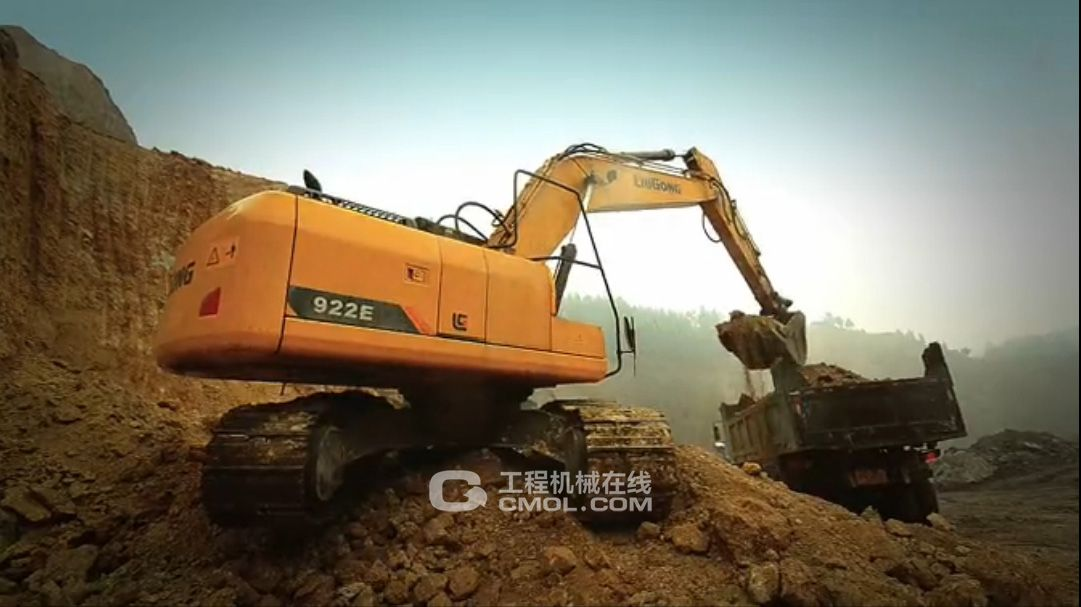excavator: (130, 127, 810, 534)
